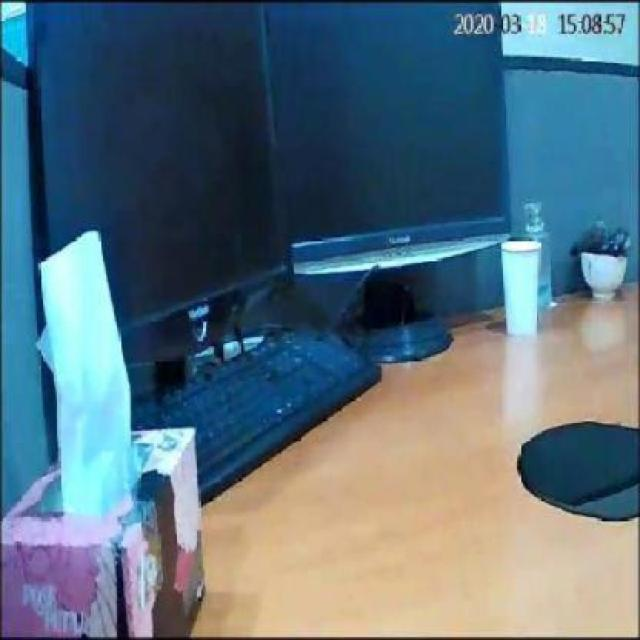spillage: (516, 422, 640, 524)
